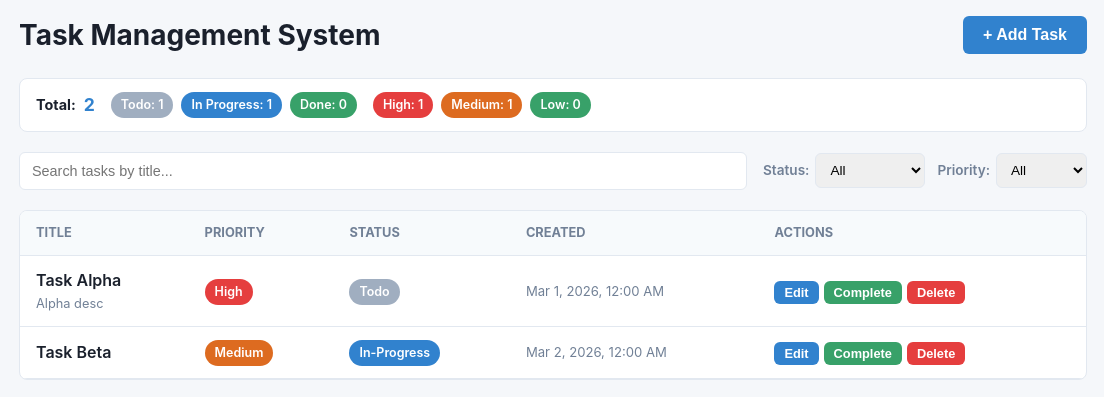
Test case: App › search shows all tasks when cleared
Expected: the text "Task Alpha" is shown, x1=36 y1=270 x2=121 y2=290
Type "Beta" into the field labelled "Search tasks".
click(383, 171); type("Beta")  # box x1=19 y1=152 x2=747 y2=190
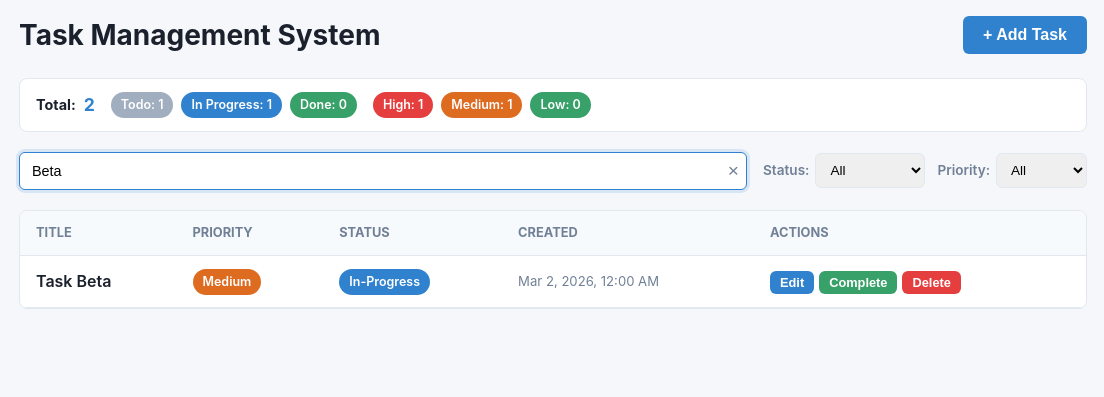
Expected: the text "Task Alpha" is gone
Click the button named "Clear search".
click(733, 171)  # box x1=728 y1=160 x2=739 y2=182
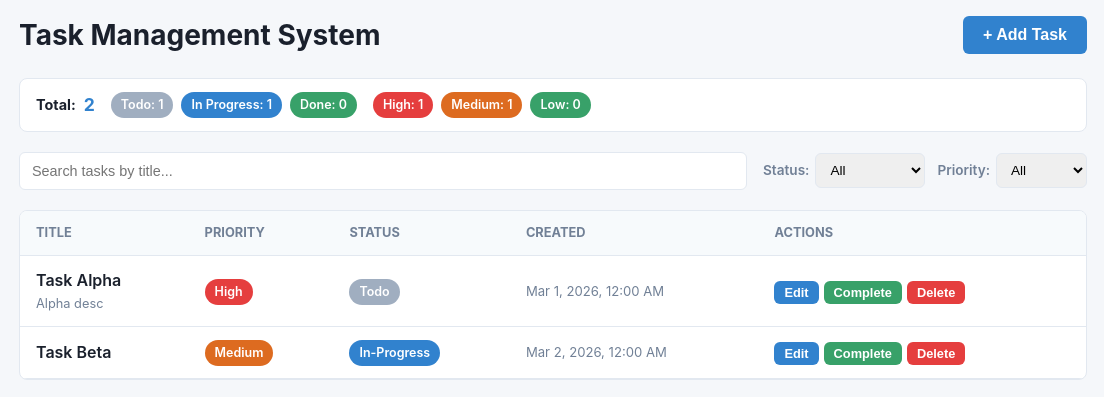
Expected: the text "Task Beta" is shown, x1=36 y1=342 x2=111 y2=362
Expected: the text "Task Alpha" is shown, x1=36 y1=270 x2=121 y2=290
